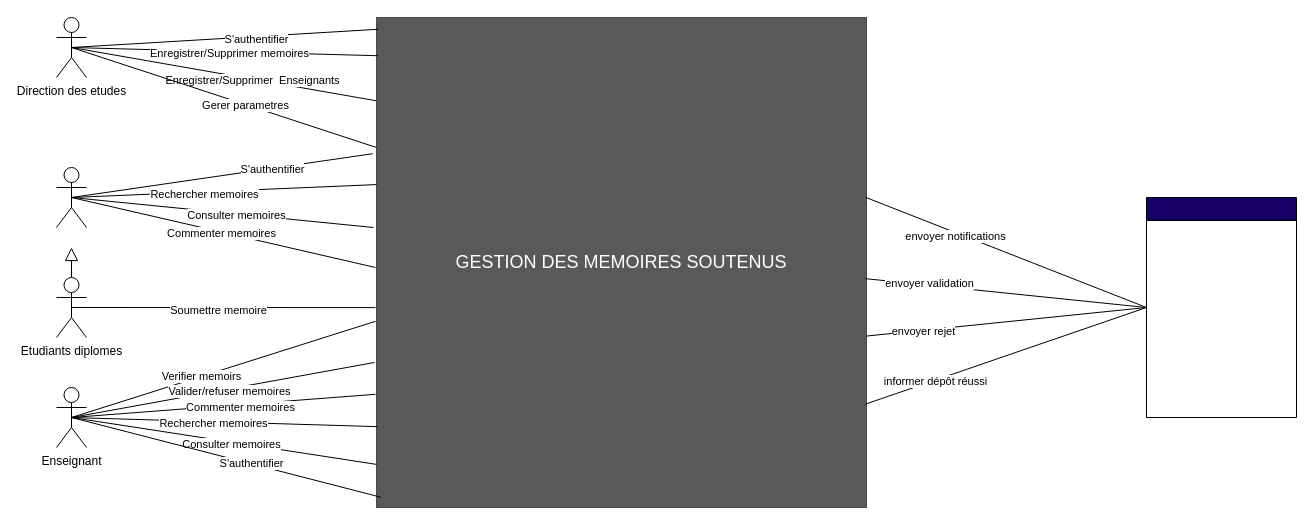
This 1314x525 diagram has some shape labels left out. The shapes that lost their labels are listed below. From the top down, each one's centre as x and y in pixels, then its label:
At (71,197): "Etudiant".
At (1221,307): "Systeme de mail".
